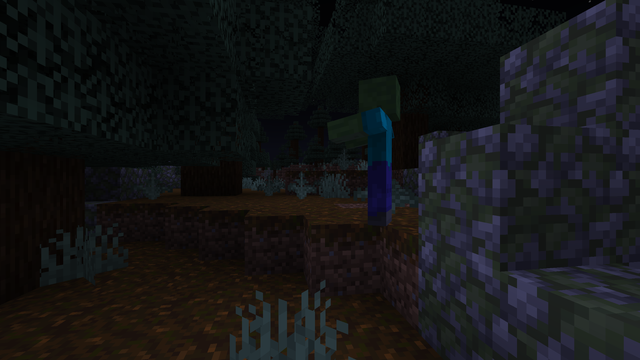zombies: (353, 78, 409, 227)
